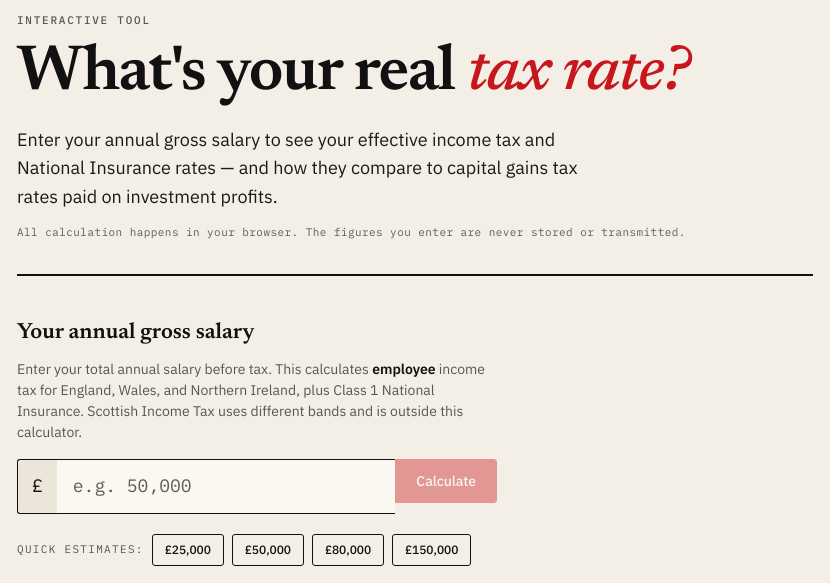
Test: TaxCalculator › enables calculate button when valid number is entered
In the field with id "salary-input": (226, 486) [57,459,395,514], type "50000"
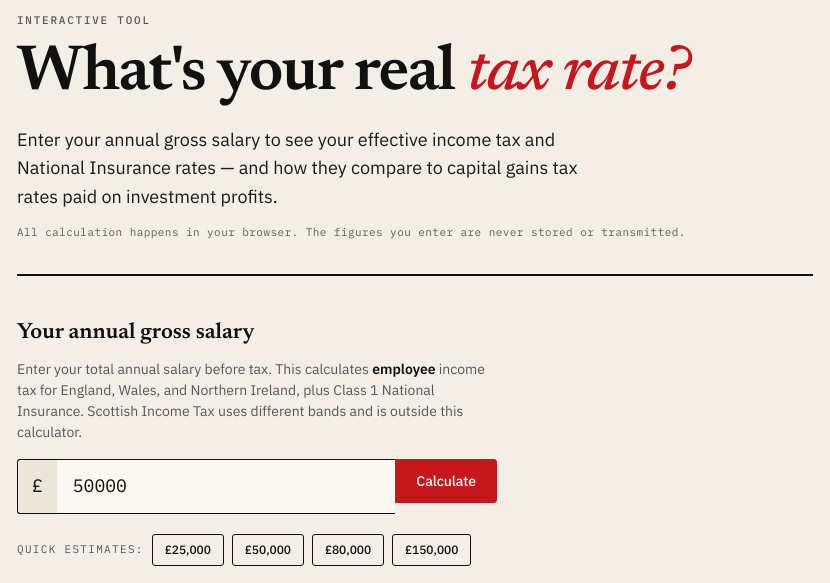
expect the button with class "calc__btn" is enabled: met, box [395,459,497,503]
